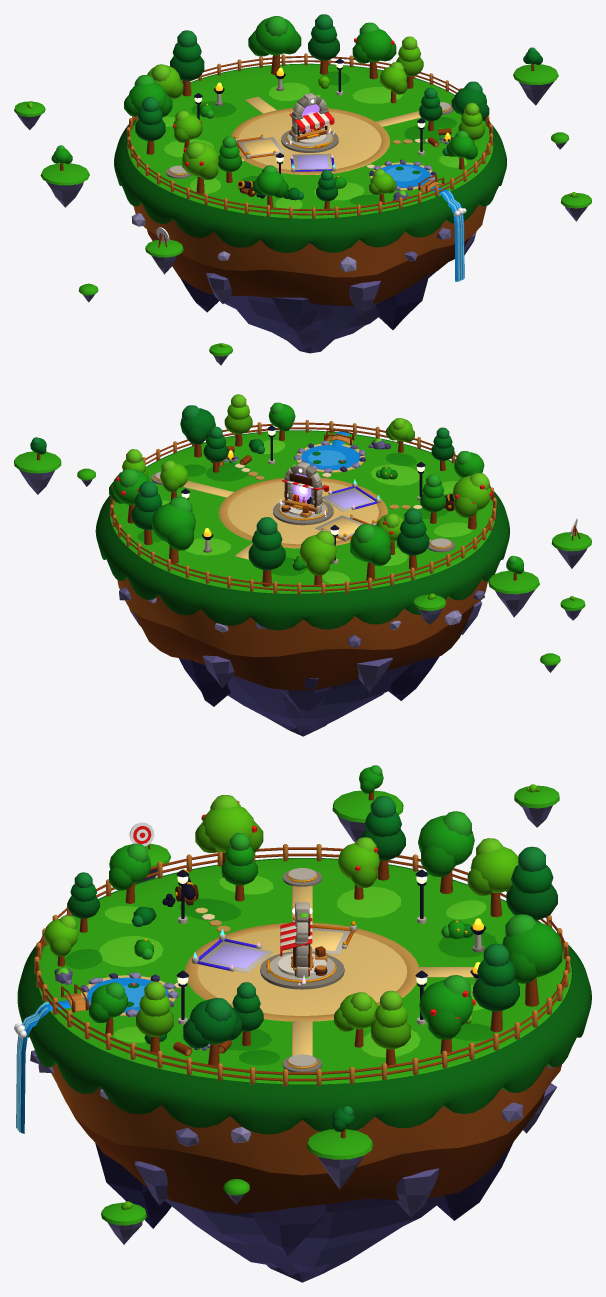
Rendered from earth_island.fbx.
3 renders of one model, top to bottom at view 1: azimuth 30°, elevation 25°; view 2: azimuth 150°, elevation 25°; view 3: azimuth 270°, elevation 25°, orthographic. The views are drawn at different scales.
Visible parts, largest first — view 1: Earth_Island, Earth_Trees, Earth_Paths, Earth_Dressing, Earth_FloatingRocks, Earth_Water, Earth_BossPlinth, Earth_Stall, Earth_Portal, Earth_Plants; view 2: Earth_Island, Earth_Trees, Earth_Paths, Earth_Dressing, Earth_FloatingRocks, Earth_Water, Earth_Portal, Earth_Stall, Earth_BossPlinth, Earth_Plants; view 3: Earth_Island, Earth_Trees, Earth_Paths, Earth_Dressing, Earth_FloatingRocks, Earth_Water, Earth_BossPlinth, Earth_Plants, Earth_Stall, Earth_Portal.
Boxes of the visible parts, <box> form: Earth_Island: <box>114,63,506,353</box>; Earth_Trees: <box>124,14,489,210</box>; Earth_Paths: <box>166,96,453,178</box>; Earth_Dressing: <box>127,53,492,218</box>; Earth_FloatingRocks: <box>14,47,591,365</box>; Earth_Water: <box>381,164,466,281</box>; Earth_BossPlinth: <box>281,129,338,152</box>; Earth_Stall: <box>289,112,334,142</box>; Earth_Portal: <box>286,93,334,144</box>; Earth_Plants: <box>199,76,452,200</box>; Earth_Island: <box>95,430,509,736</box>; Earth_Trees: <box>109,394,492,586</box>; Earth_Paths: <box>151,463,455,559</box>; Earth_Dressing: <box>110,420,496,595</box>; Earth_FloatingRocks: <box>14,437,591,672</box>; Earth_Water: <box>301,431,360,470</box>; Earth_Portal: <box>279,462,326,516</box>; Earth_Stall: <box>281,473,329,517</box>; Earth_BossPlinth: <box>273,500,333,525</box>; Earth_Plants: <box>248,439,441,570</box>; Earth_Island: <box>17,858,591,1282</box>; Earth_Trees: <box>44,795,562,1065</box>; Earth_Paths: <box>174,868,473,1072</box>; Earth_Dressing: <box>34,844,570,1086</box>; Earth_FloatingRocks: <box>101,765,559,1244</box>; Earth_Water: <box>14,977,168,1133</box>; Earth_BossPlinth: <box>260,951,344,989</box>; Earth_Plants: <box>131,906,473,1044</box>; Earth_Stall: <box>280,914,327,976</box>; Earth_Portal: <box>292,902,312,985</box>.
Size of the model in its own units: 181 by 94.8 by 123.
